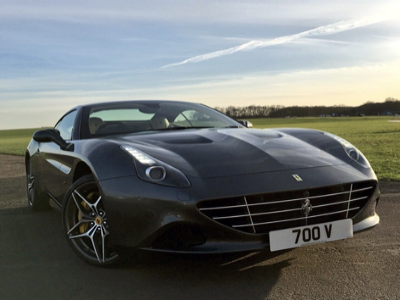licence: (274, 218, 350, 252)
